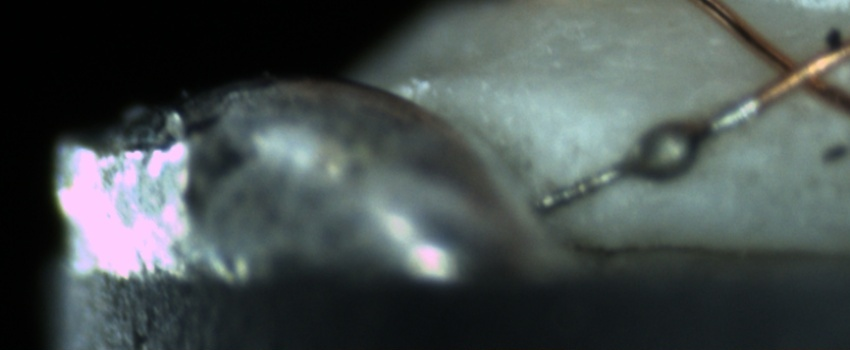CL: (750, 35, 840, 107)
TB: (624, 113, 705, 189)
TS: (536, 92, 760, 219)
TTCW: (538, 71, 810, 217)
